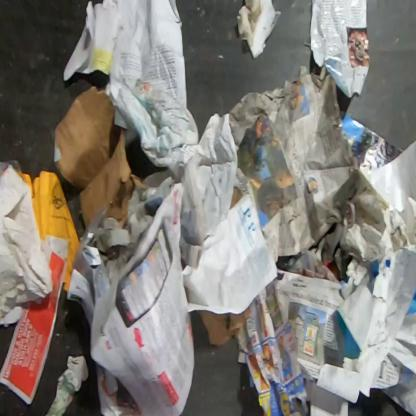cardboard: (334, 171, 415, 362), (53, 85, 147, 230), (77, 187, 155, 313), (197, 310, 247, 347), (231, 185, 243, 208)
soft_plastic: (0, 159, 23, 178)
